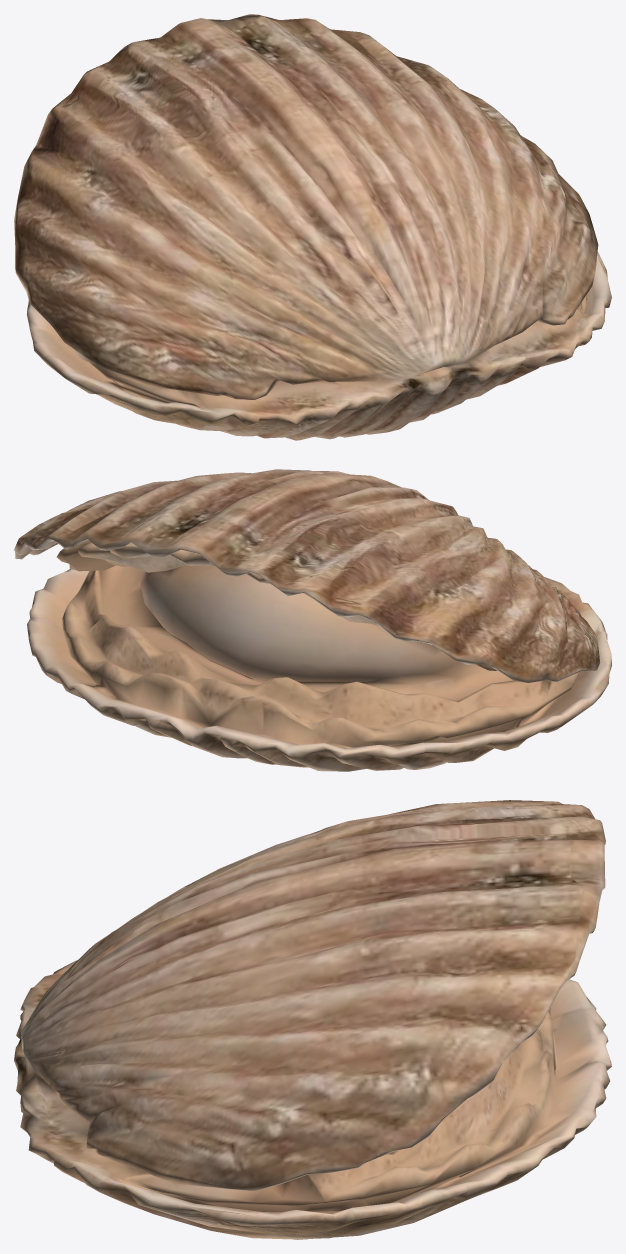
The model's file is scallop-lod.glb.
3 renders of one model, top to bottom at view 1: azimuth 30°, elevation 25°; view 2: azimuth 150°, elevation 25°; view 3: azimuth 270°, elevation 25°, orthographic. The views are drawn at different scales.
Visible parts, largest first — view 1: model; view 2: model; view 3: model.
Part boxes in pixels (x1,y1,x2,y2): model: (14,14,611,440); model: (14,469,611,771); model: (14,800,611,1239).
Size of the model in its own units: 1.88 by 0.9886 by 1.57.
Materials: 1 (1 with a texture image).
